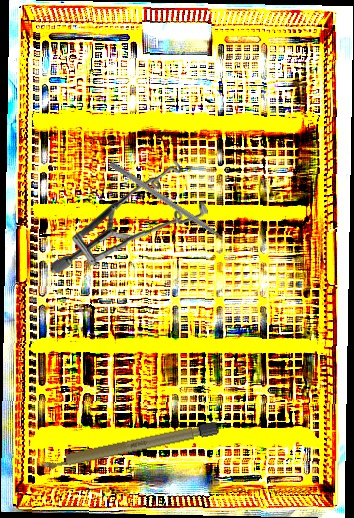Pusher: (107, 160, 239, 252)
Scalpel Handle: (39, 420, 220, 472)
Speculum: (51, 156, 210, 279)
